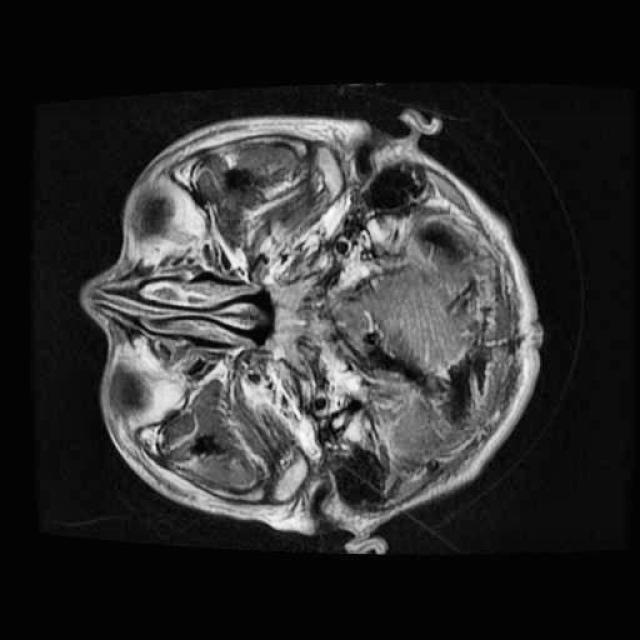Non-Tumor: (399, 336, 509, 444)
